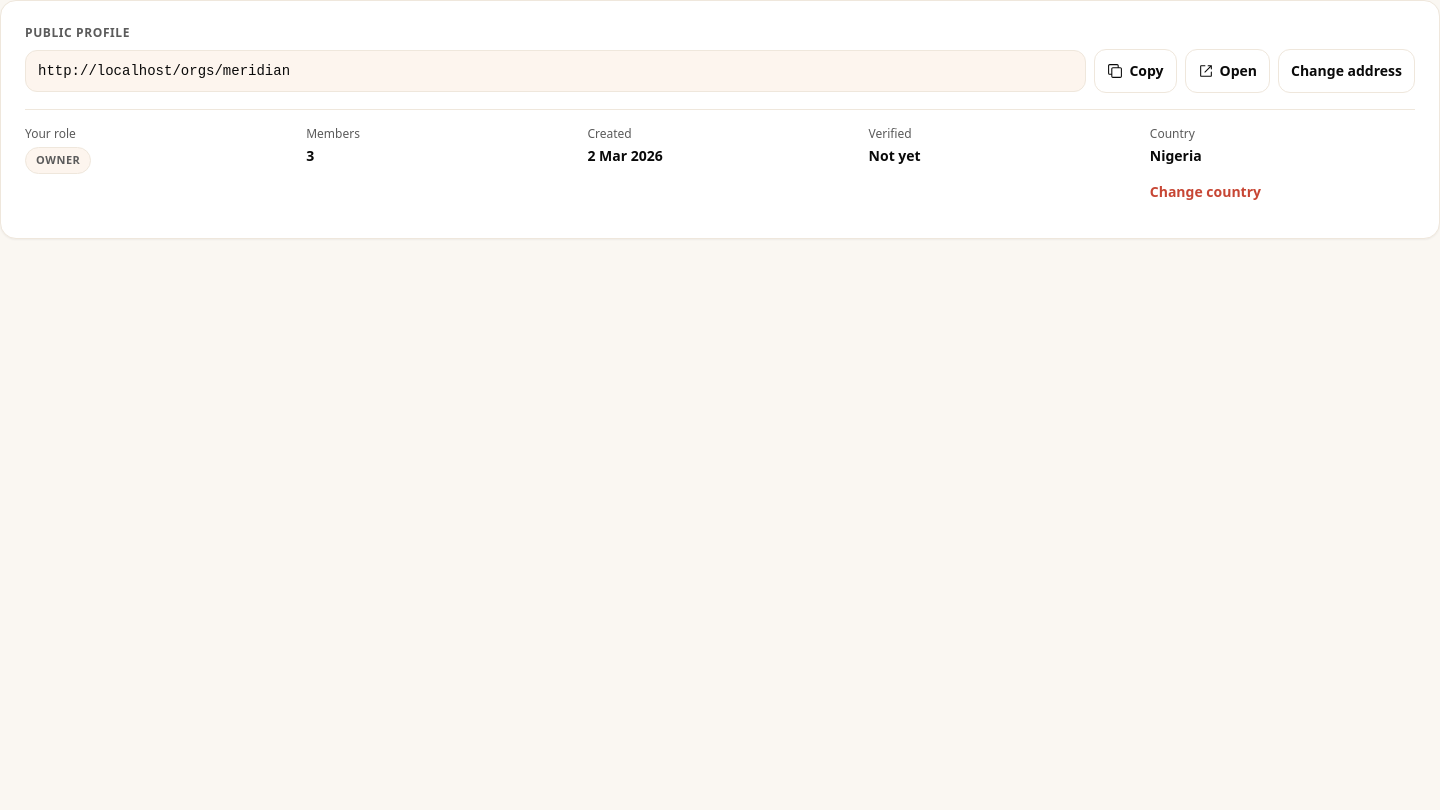
Test: OrganizationProfileSummary country › lets an owner open the country dialog while verification is unverified
Click the button "Change country" at (1205, 192), box [1150, 170, 1261, 214]
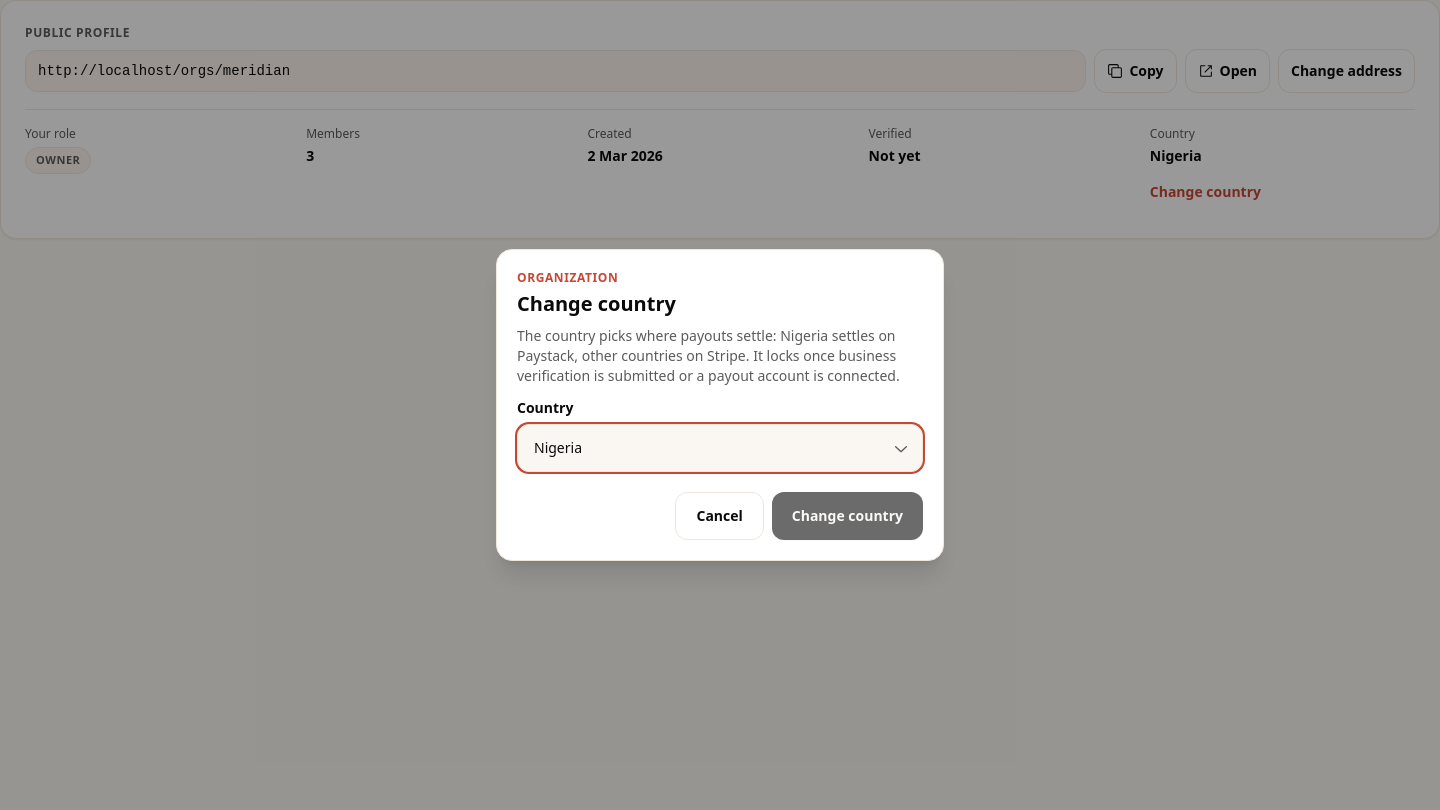
Result: the dialog is shown
